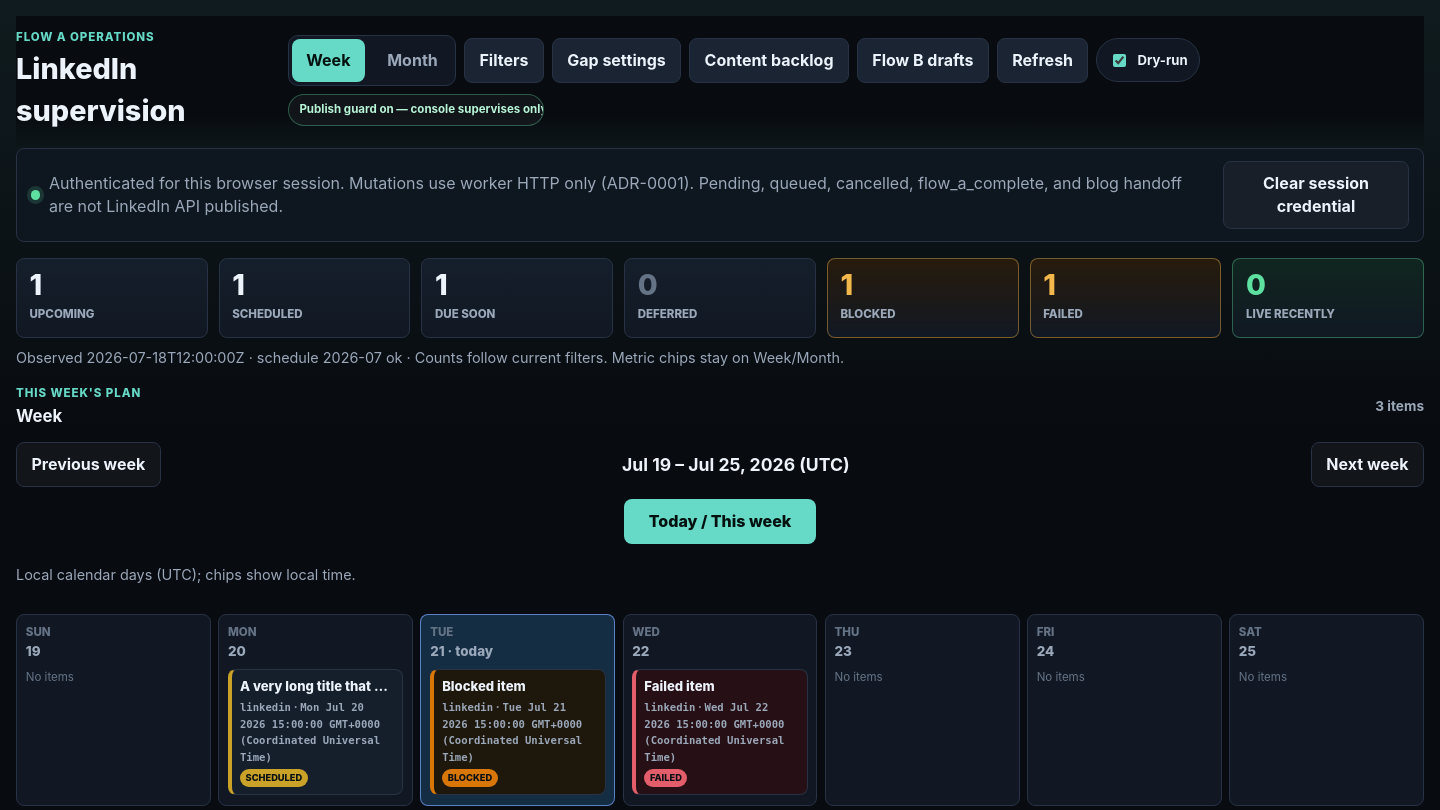
Test: US-040E console polish UI › marks blocked and failed rows distinctly from routine
This screenshot has width=1440, height=810.
Click the button with test id "load-btn" at (1043, 60), box [997,38,1088,83]
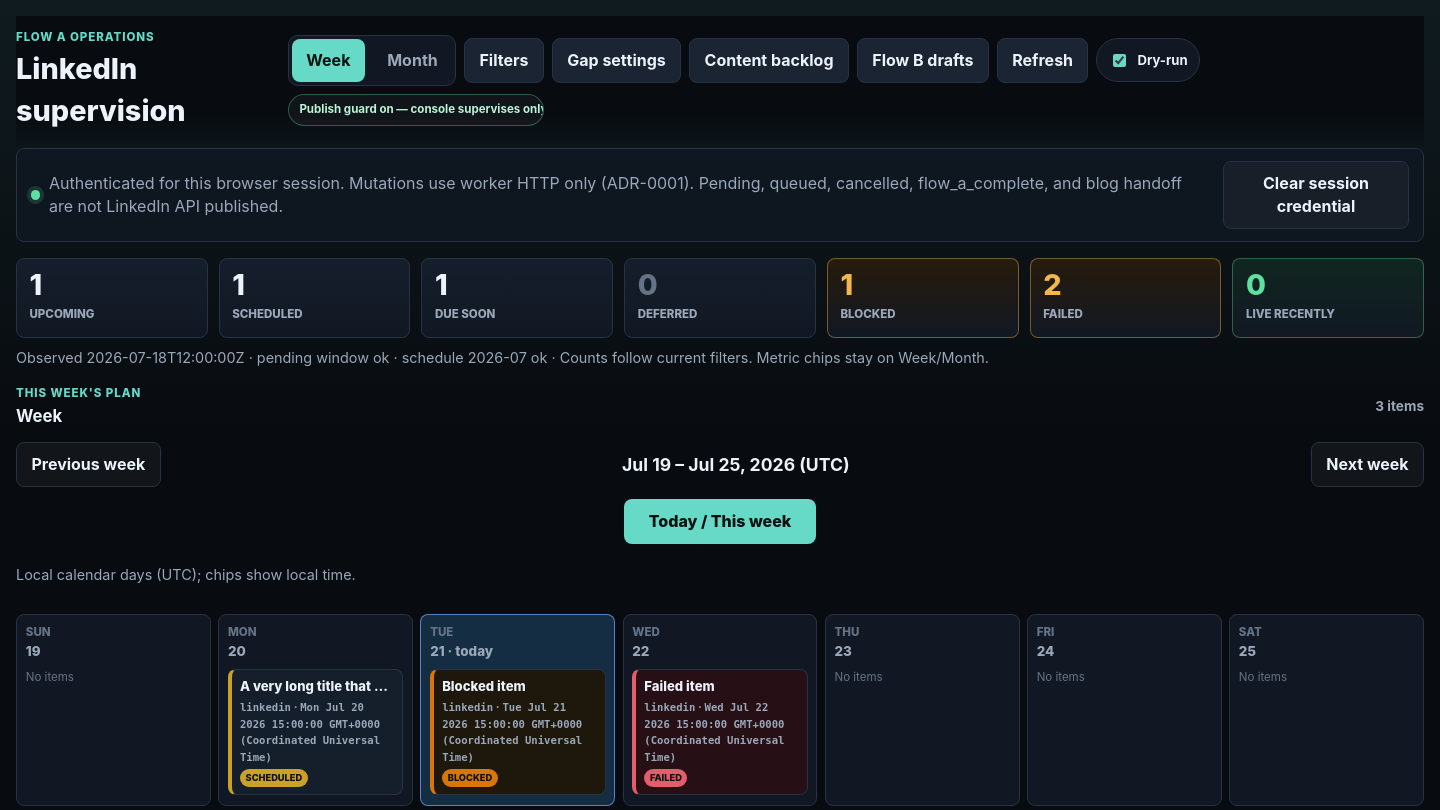
Check: the element with test id "count-strip" is shown, box [16,258,1424,338]
Click the tab with test id "view-month" at (412, 60), box [373,39,452,82]
(page scrolled)
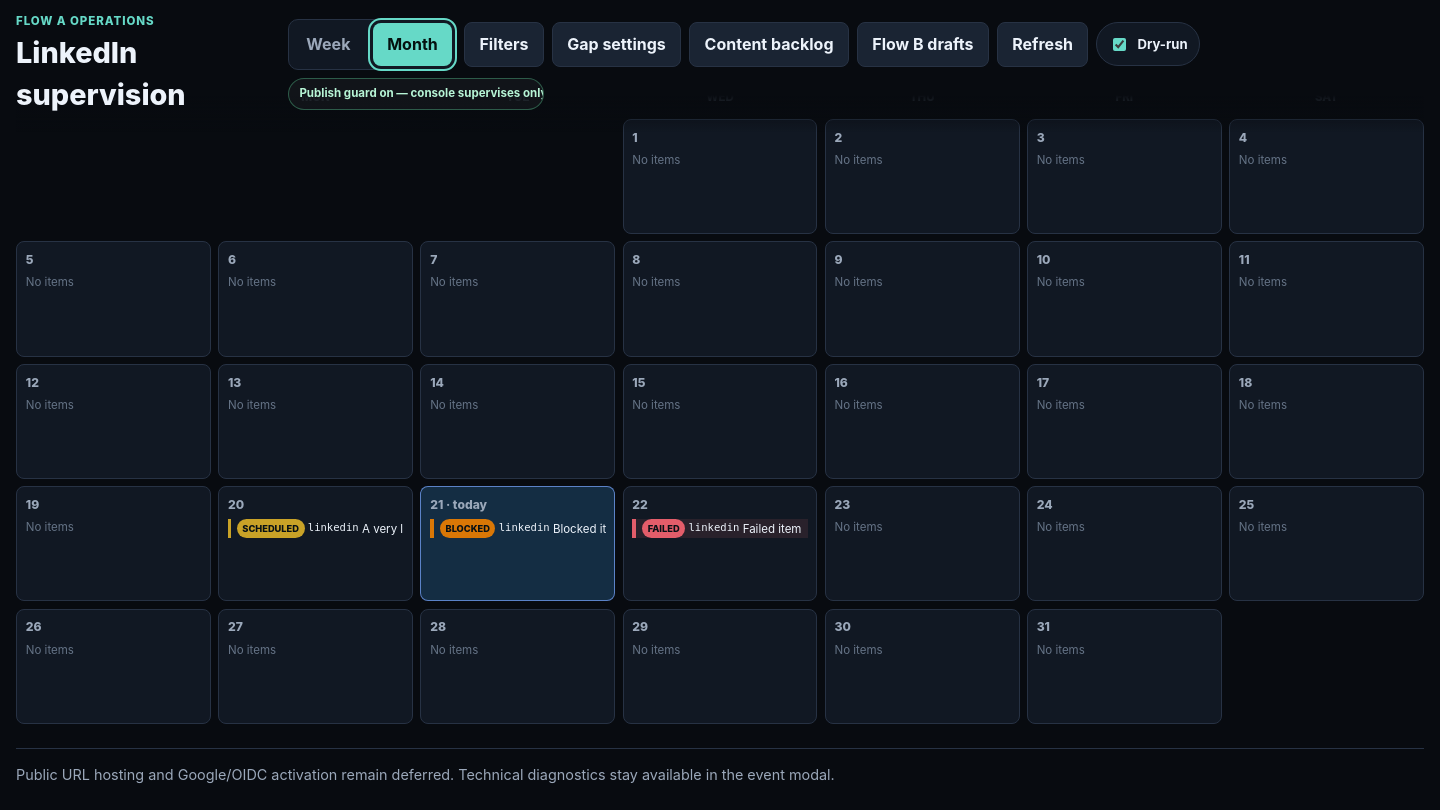
Check: the list item "Blocked linkedin Blocked item" is shown, box [430,519,606,538]
Check: the list item "Failed linkedin Failed item" is shown, box [632,519,808,538]
